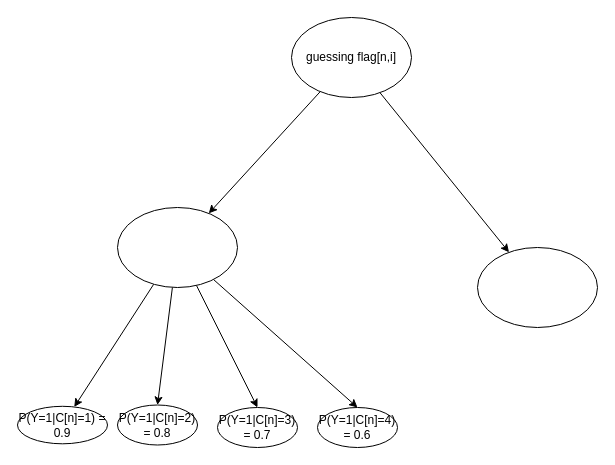
The diagram is 615 pixels wide and 465 high, and some of its shapes have lost their labels. The centre of each missing label's shape, as x and y in pixels:
class correct prob: the point at 177,247
P(Y=1) = 0.25: the point at 537,287
